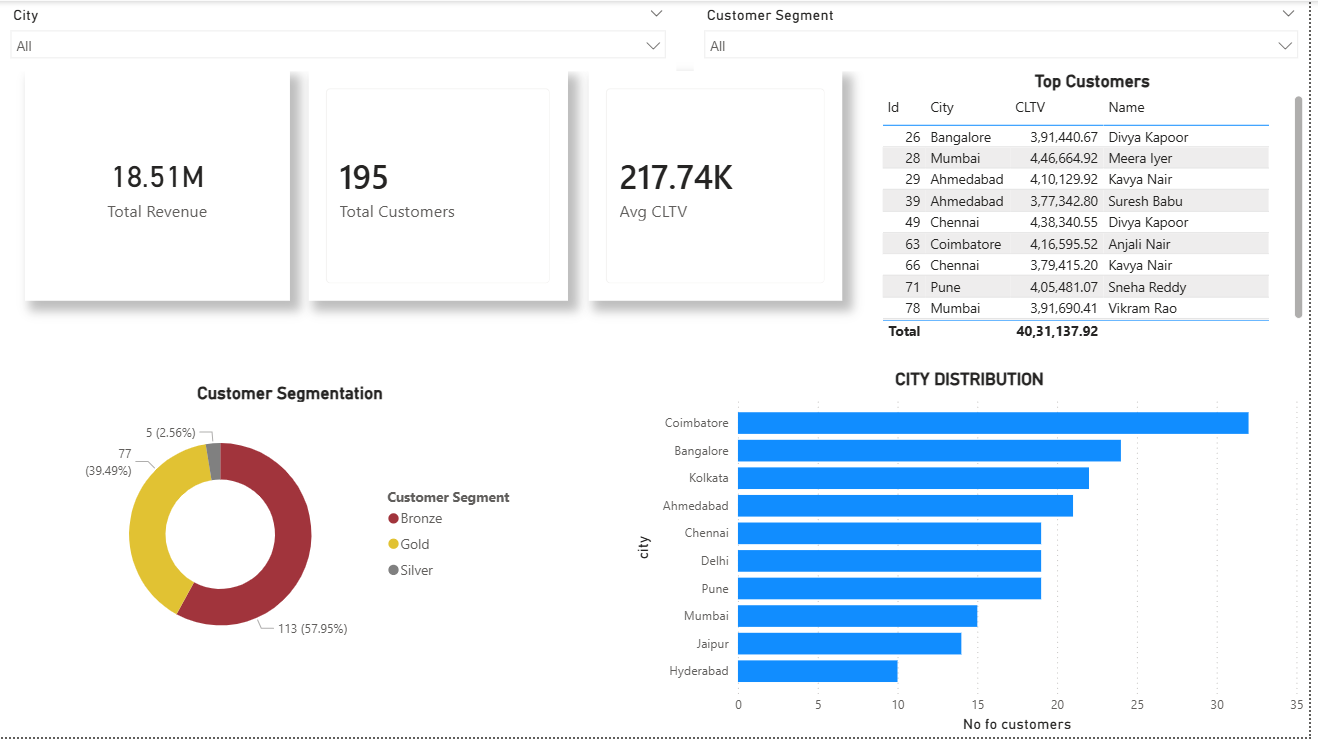

The page's visual inventory and layout, read from the dashboard file:
{"tool":"powerbi","page":{"name":"Customers","canvas":[1280,720],"ordinal":1},"visuals":[{"type":"card","fields":{"Values":["DimCustomer_Current.CLTV"]},"box":[24.7,68.6,259.3,225],"z":0},{"type":"cardVisual","fields":{"Data":["DimCustomer_Current.Total Customers"]},"box":[301.9,68.6,253.9,225],"z":1000},{"type":"cardVisual","fields":{"Data":["DimCustomer_Current.Avg CLTV"]},"box":[576.3,68.6,248.4,225],"z":2000},{"type":"donutChart","title":"Customer Segmentation","fields":{"Category":["DimCustomer_Current.Customer Segment"],"Y":["CountNonNull(DimCustomer_Current.customer_id)"]},"box":[48,373.2,472,278.6],"z":3000},{"type":"barChart","title":"CITY DISTRIBUTION","fields":{"Category":["DimCustomer_Current.city"],"Y":["CountNonNull(DimCustomer_Current.customer_id)"]},"box":[616.1,359.5,664.2,360.9],"z":4000},{"type":"tableEx","title":"Top Customers","fields":{"Values":["DimCustomer_Current.customer_id","DimCustomer_Current.city","DimCustomer_Current.CLTV","DimCustomer_Current.name"]},"box":[857.6,68.6,422.6,269],"z":5000},{"type":"slicer","fields":{"Values":["DimCustomer_Current.city"]},"box":[0,0,661.4,68.6],"z":6000},{"type":"slicer","fields":{"Values":["DimCustomer_Current.Customer Segment"]},"box":[679.2,0,601,68.6],"z":7000}]}

Visuals, with their boxes in screenshot pixels (x1, y1, x2, y2), scaled from the page's 1280x720 canvas onto the 1318x741 screenshot:
card - DimCustomer_Current.CLTV: 25,71,292,302
cardVisual - DimCustomer_Current.Total Customers: 311,71,572,302
cardVisual - DimCustomer_Current.Avg CLTV: 593,71,849,302
"Customer Segmentation" donutChart: 49,384,535,671
"CITY DISTRIBUTION" barChart: 634,370,1317,740
"Top Customers" tableEx: 883,71,1317,347
slicer - DimCustomer_Current.city: 0,0,681,71
slicer - DimCustomer_Current.Customer Segment: 699,0,1317,71
